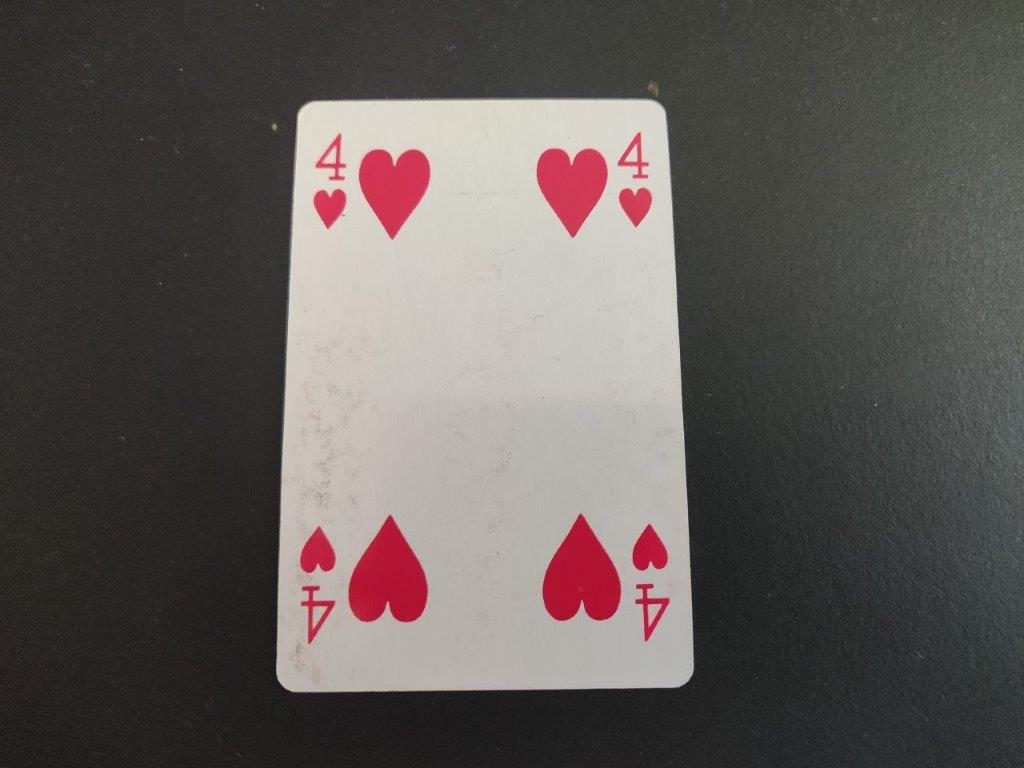4H: (616, 129, 660, 234), (311, 130, 353, 234)
